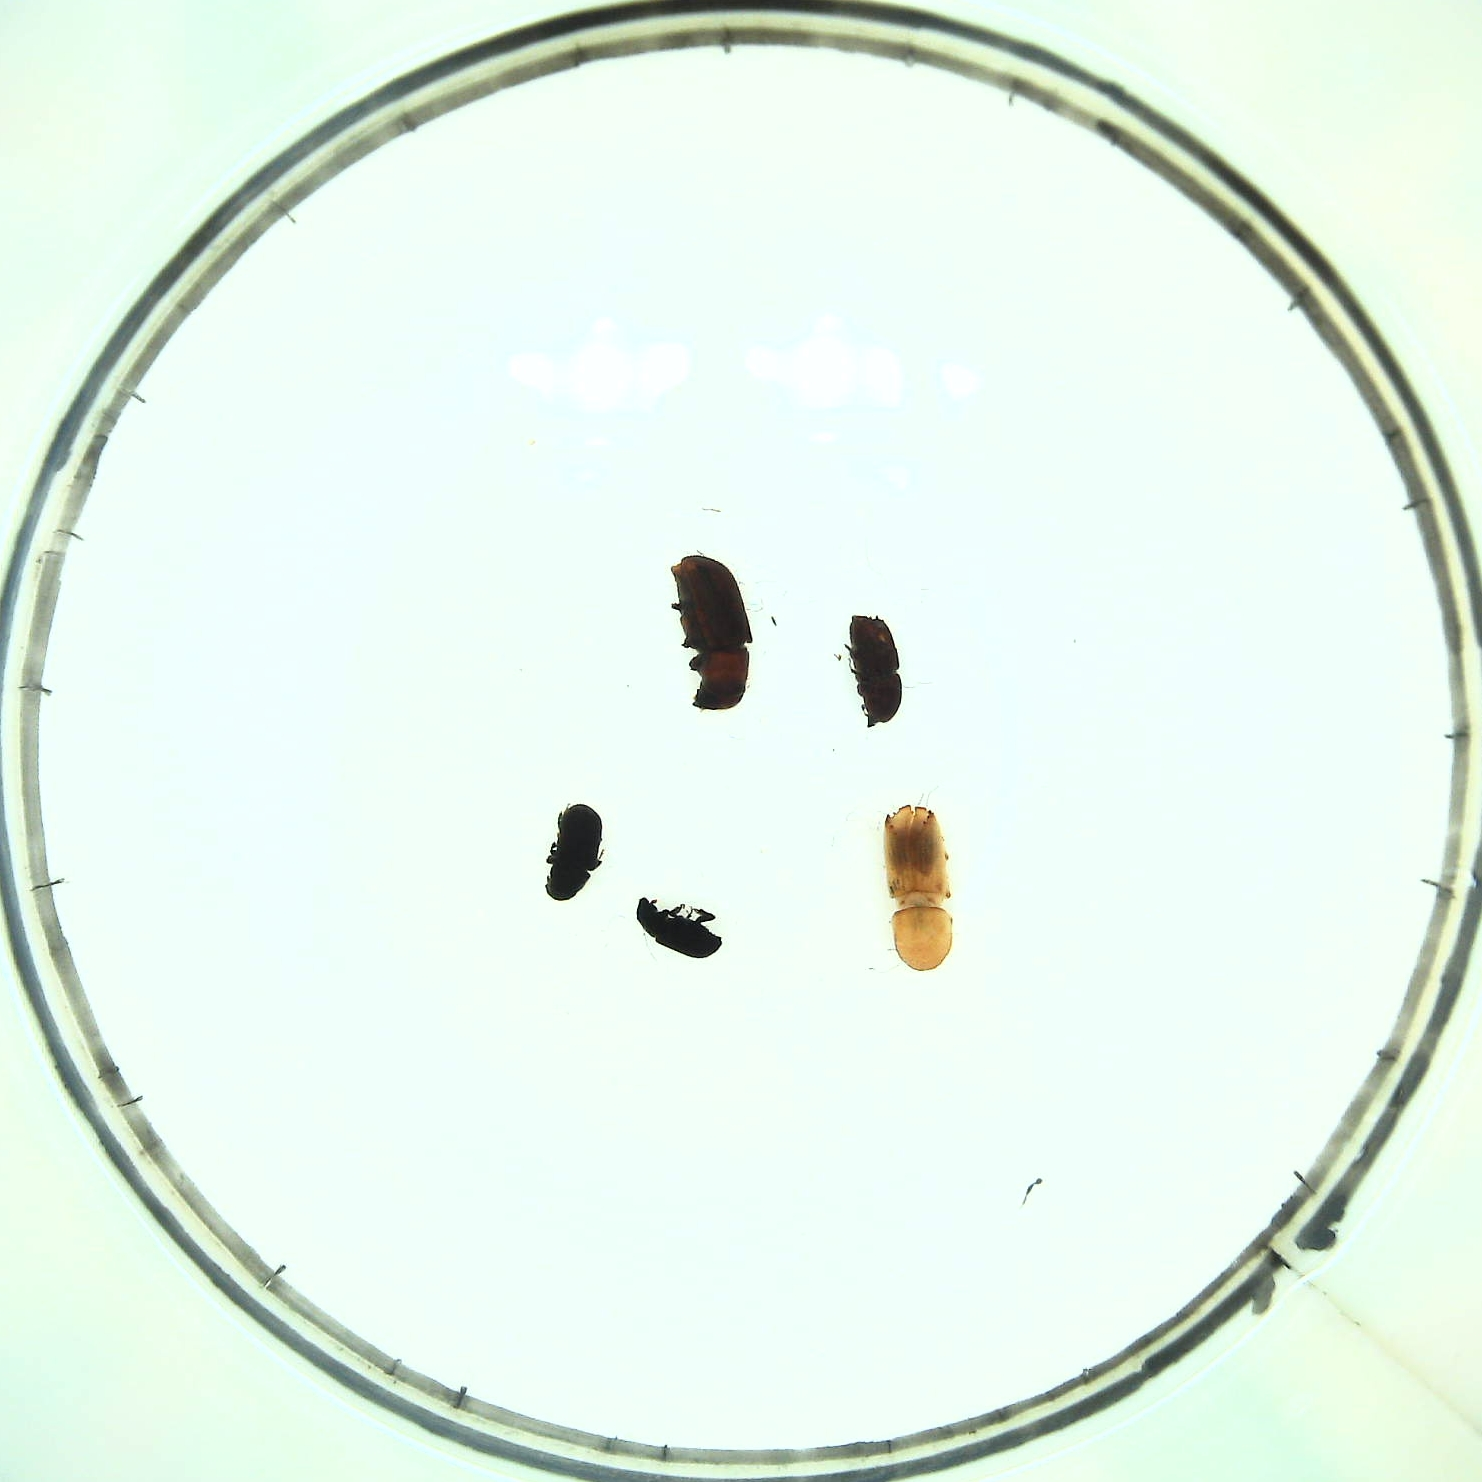Boerner: (879, 802, 958, 972)
Leconte: (666, 555, 759, 711)
Linnaeus: (845, 609, 911, 731)
armandi: (546, 802, 604, 898)
coleoptera: (636, 893, 725, 962)
